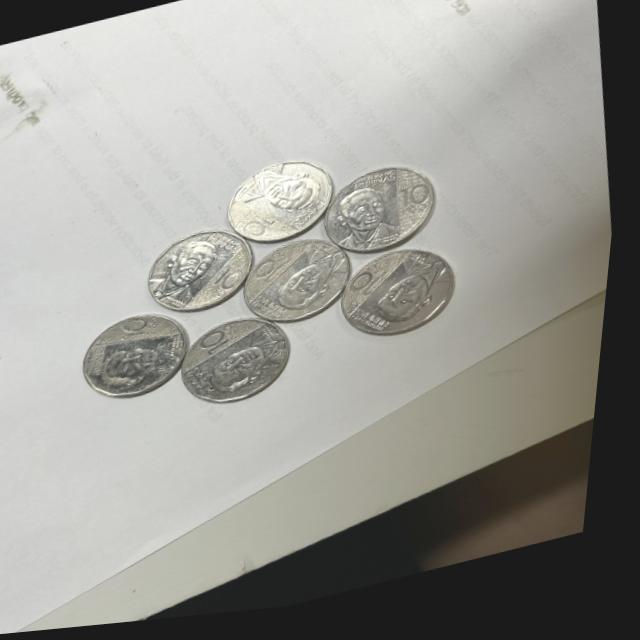10_New_Front: (353, 265, 404, 314), (390, 185, 442, 233), (239, 209, 293, 250), (206, 322, 253, 364), (208, 265, 259, 303), (124, 312, 173, 351), (267, 253, 306, 293)
